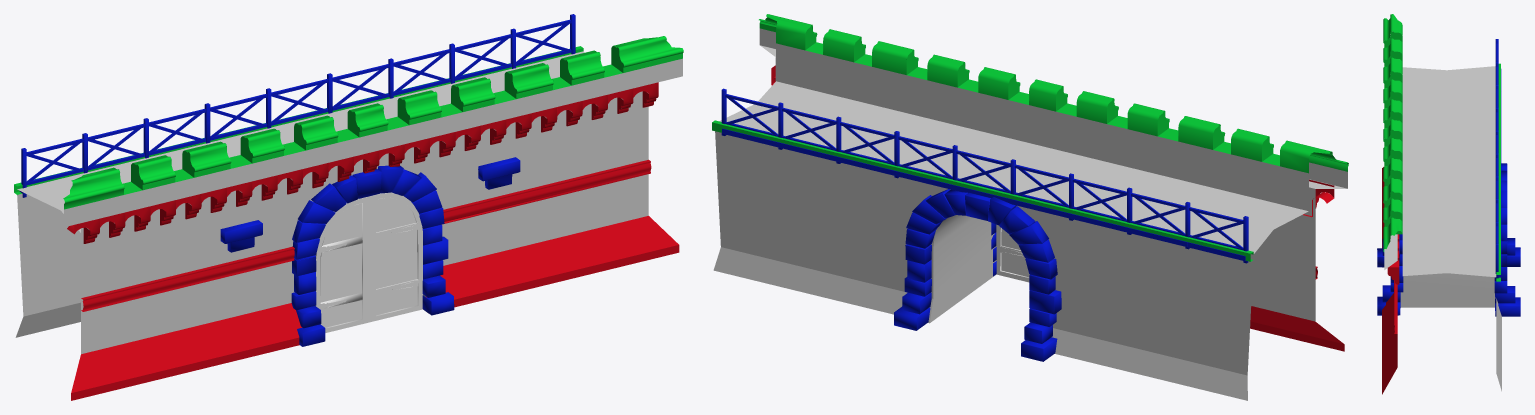
Rendered from Wall_Goal (1).fbx.
3 renders of one model, left to right at view 1: azimuth 30°, elevation 25°; view 2: azimuth 150°, elevation 25°; view 3: azimuth 270°, elevation 25°, orthographic. The views are drawn at different scales.
Visible parts, largest first — view 1: Group_4.007, Group_3.013, Group_3.011, Group_3.012; view 2: Group_4.007, Group_3.013, Group_3.011; view 3: Group_4.007, Group_3.013.
Part boxes in pixels (bbox=[...]): Group_4.007: bbox=[14, 36, 683, 400]; Group_3.013: bbox=[19, 14, 575, 197]; Group_3.011: bbox=[369, 192, 422, 322]; Group_3.012: bbox=[315, 196, 369, 332]; Group_4.007: bbox=[712, 14, 1348, 400]; Group_3.013: bbox=[721, 88, 1248, 263]; Group_3.011: bbox=[996, 224, 1029, 282]; Group_4.007: bbox=[1377, 14, 1520, 394]; Group_3.013: bbox=[1495, 39, 1501, 281].
Bounding box in the file's own units: 2095 × 690 × 551.
